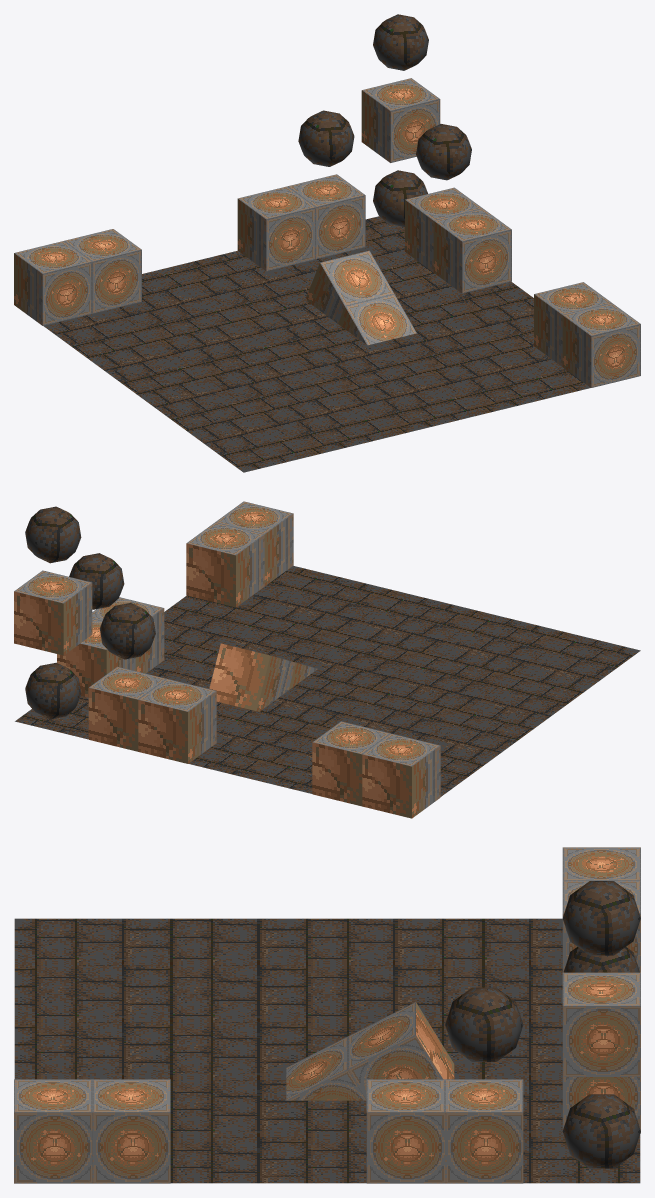
Rendered from blocks.fbx.
The picture shows the model from 3 angles, top to bottom: view 1: azimuth 30°, elevation 25°; view 2: azimuth 150°, elevation 25°; view 3: azimuth 270°, elevation 25°; orthographic projection. The views are drawn at different scales.
Visible parts, largest first — view 1: Plane, CA.006, CA.004, CA.003, CA.007, CA.001, CA, CA.008, CA.009, CA.005, CA.002, CA.010 (+4 smaller); view 2: Plane, CA.005, CA.006, CA.007, CA.001, CA, CA.008, CA.009, CA.004, Icosphere.003, Icosphere.001, Icosphere (+3 smaller); view 3: Plane, CA.002, CA.003, CA.004, CA.005, CA.001, CA.009, Icosphere.002, Icosphere, Icosphere.003, CA.010, CA.007 (+3 smaller).
Boxes of the visible parts, bbox=[...] form: Plane: bbox=[43, 216, 590, 472]; CA.006: bbox=[237, 186, 315, 271]; CA.004: bbox=[562, 303, 640, 387]; CA.003: bbox=[433, 208, 511, 293]; CA.007: bbox=[14, 241, 92, 325]; CA.001: bbox=[361, 78, 440, 162]; CA: bbox=[287, 174, 365, 259]; CA.008: bbox=[64, 229, 141, 313]; CA.009: bbox=[306, 250, 394, 323]; CA.005: bbox=[534, 282, 611, 366]; CA.002: bbox=[405, 187, 482, 272]; CA.010: bbox=[338, 294, 416, 345]; Plane: bbox=[15, 565, 640, 796]; CA.005: bbox=[186, 522, 264, 607]; CA.006: bbox=[138, 679, 216, 763]; CA.007: bbox=[362, 733, 440, 818]; CA.001: bbox=[14, 570, 92, 655]; CA: bbox=[88, 666, 166, 751]; CA.008: bbox=[312, 721, 390, 806]; CA.009: bbox=[209, 643, 295, 711]; CA.004: bbox=[215, 501, 293, 586]; Icosphere.003: bbox=[25, 506, 81, 563]; Icosphere.001: bbox=[99, 603, 155, 659]; Icosphere: bbox=[25, 662, 81, 719]; Plane: bbox=[14, 918, 640, 1183]; CA.002: bbox=[445, 1079, 523, 1183]; CA.003: bbox=[366, 1079, 444, 1183]; CA.004: bbox=[14, 1079, 92, 1183]; CA.005: bbox=[92, 1079, 170, 1183]; CA.001: bbox=[562, 972, 640, 1076]; CA.009: bbox=[347, 1002, 454, 1099]; Icosphere.002: bbox=[445, 987, 523, 1061]; Icosphere: bbox=[562, 1094, 640, 1168]; Icosphere.003: bbox=[562, 881, 640, 955]; CA.010: bbox=[286, 1036, 366, 1100]; CA.007: bbox=[562, 847, 640, 880].
Size of the model in its own units: 1600 by 985 by 1600.
16 materials, 16 textured.
